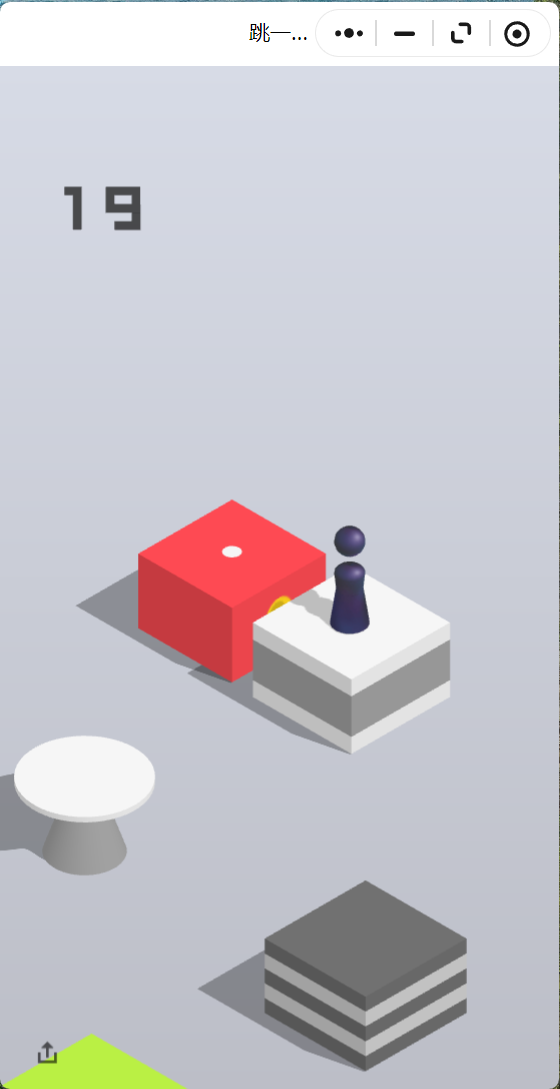target: (139, 500, 326, 607), (334, 526, 365, 631)
